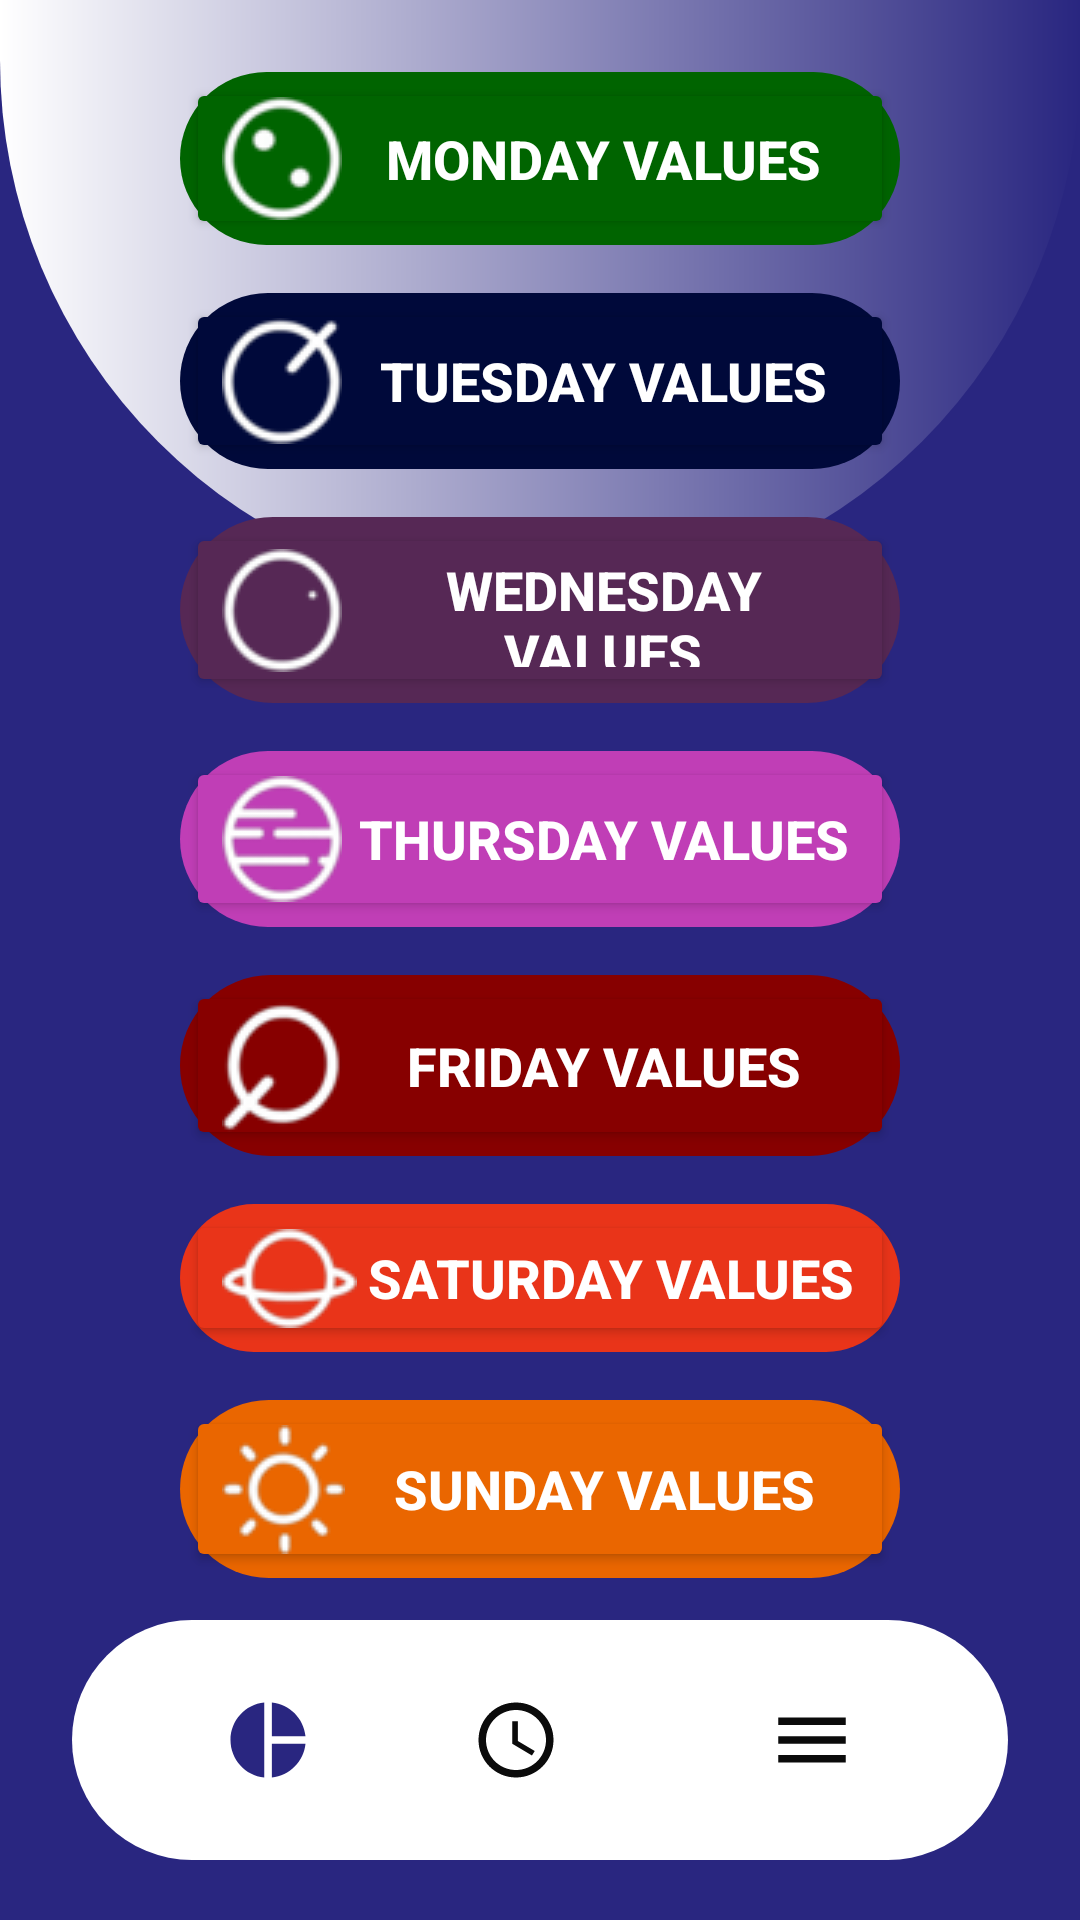

Point at icon controls on the screen. Image size 1080×1920, points as [x,y].
All my alarms clock: [516,1740]
Menu: [812,1740]
